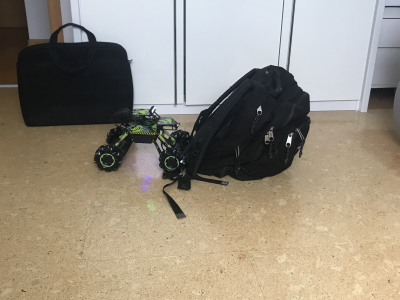remote control car: (93, 105, 191, 173)
